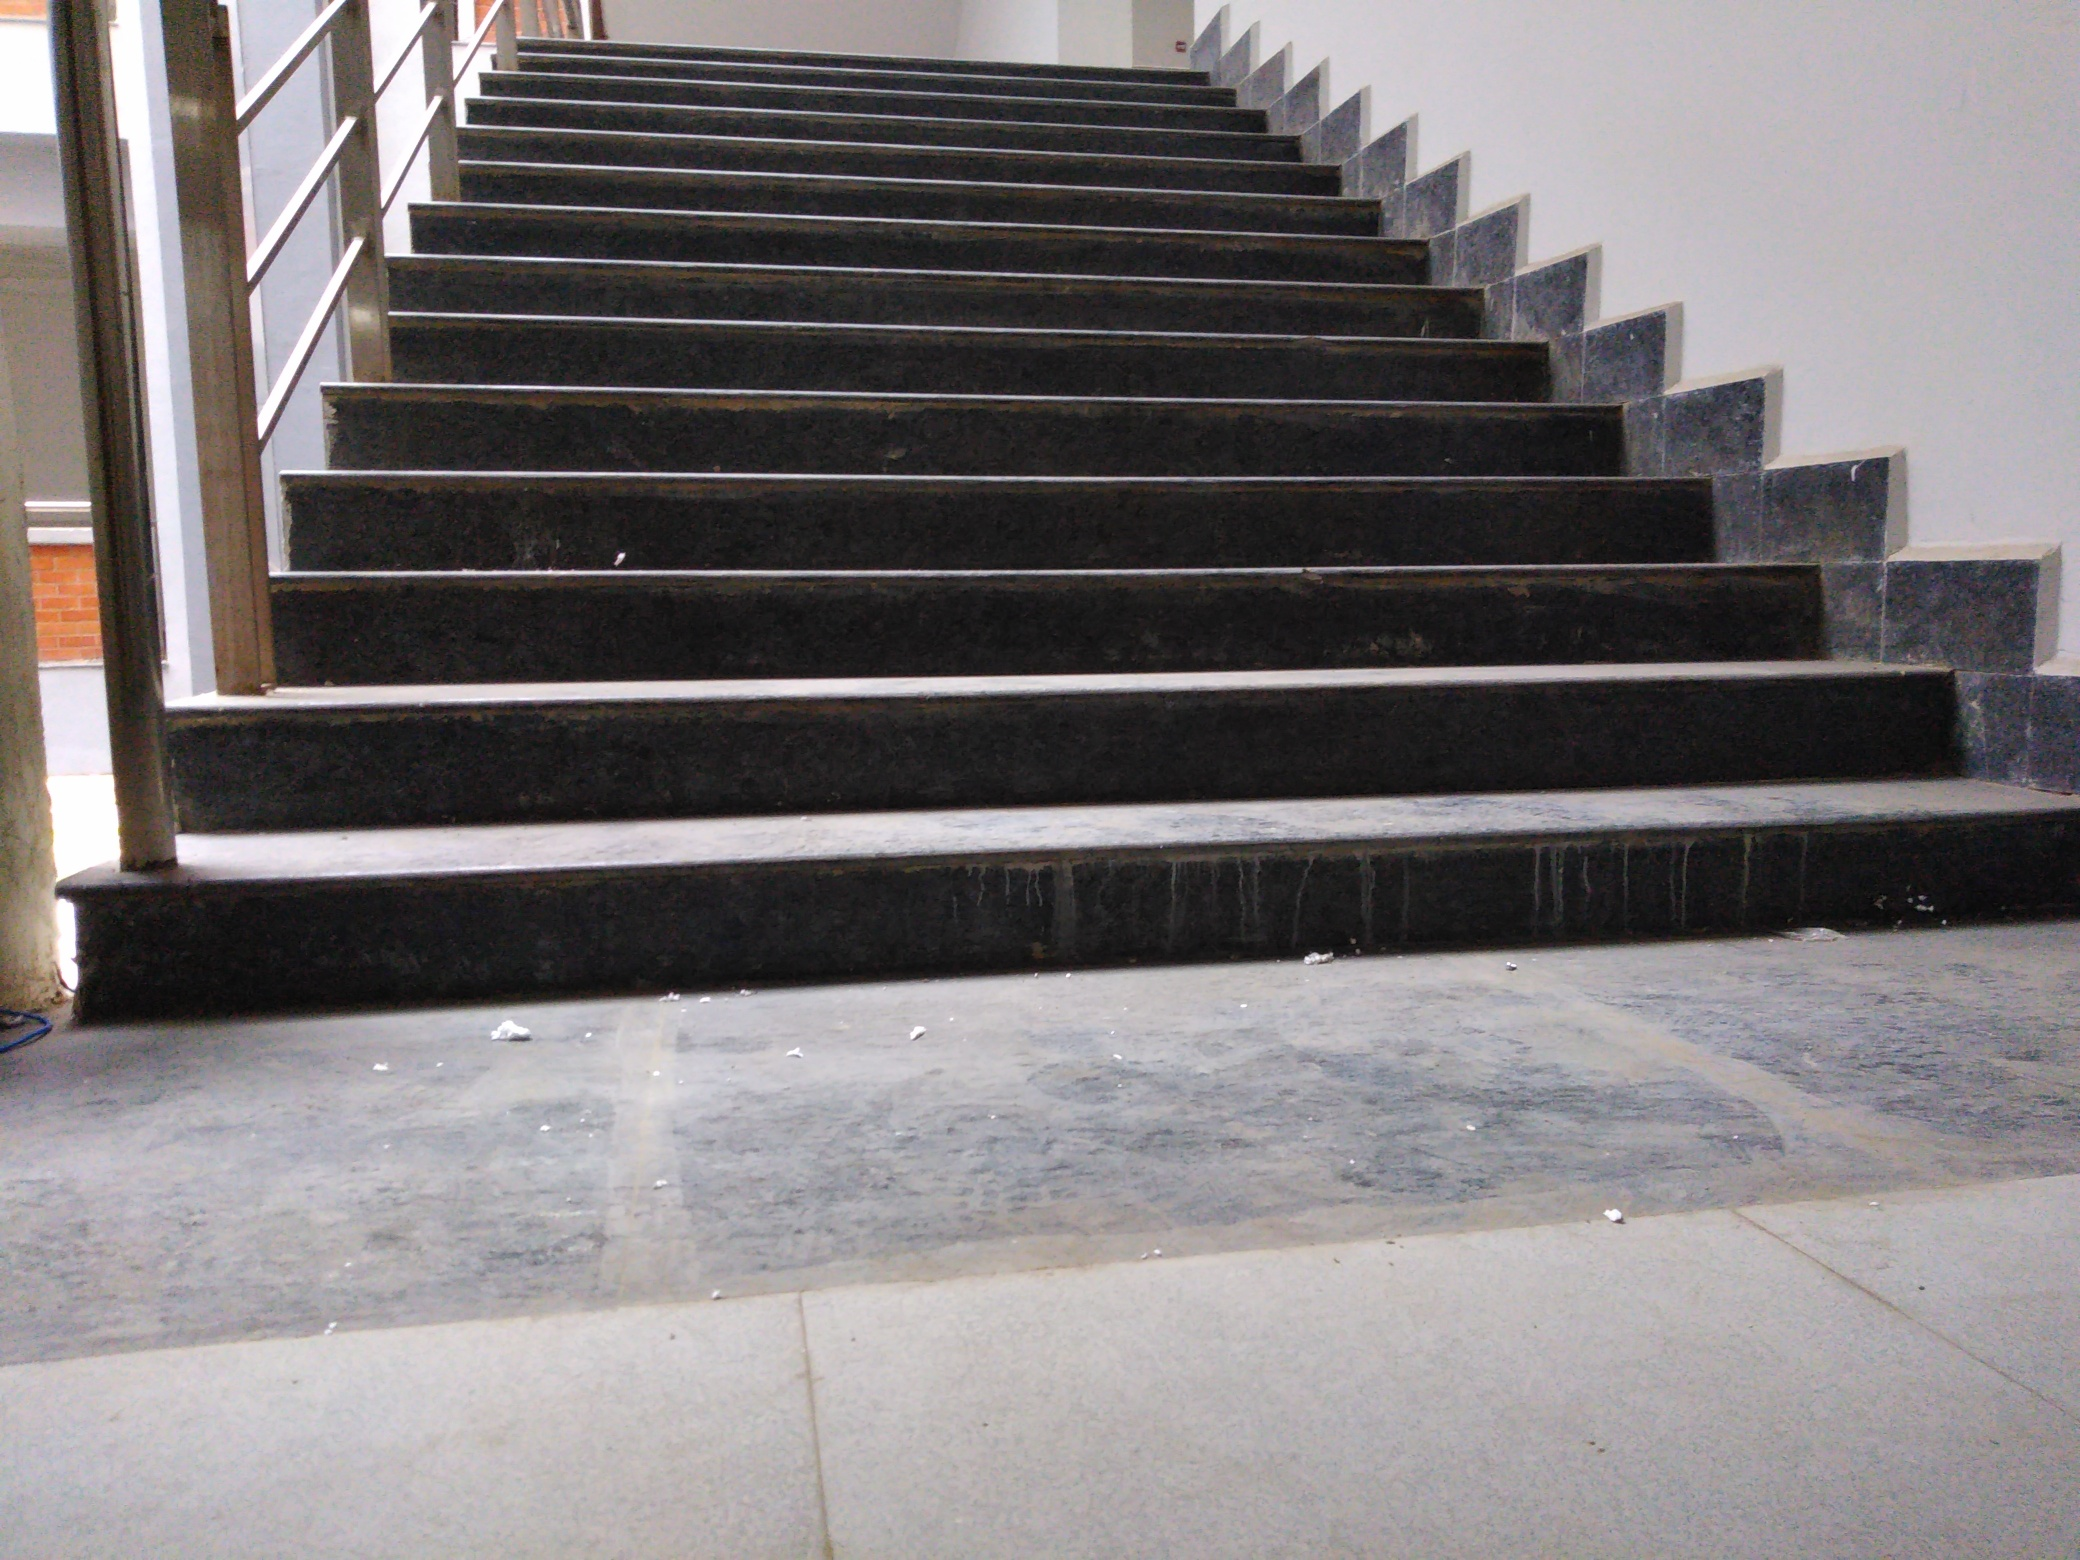stairs_up: (283, 21, 1746, 960)
